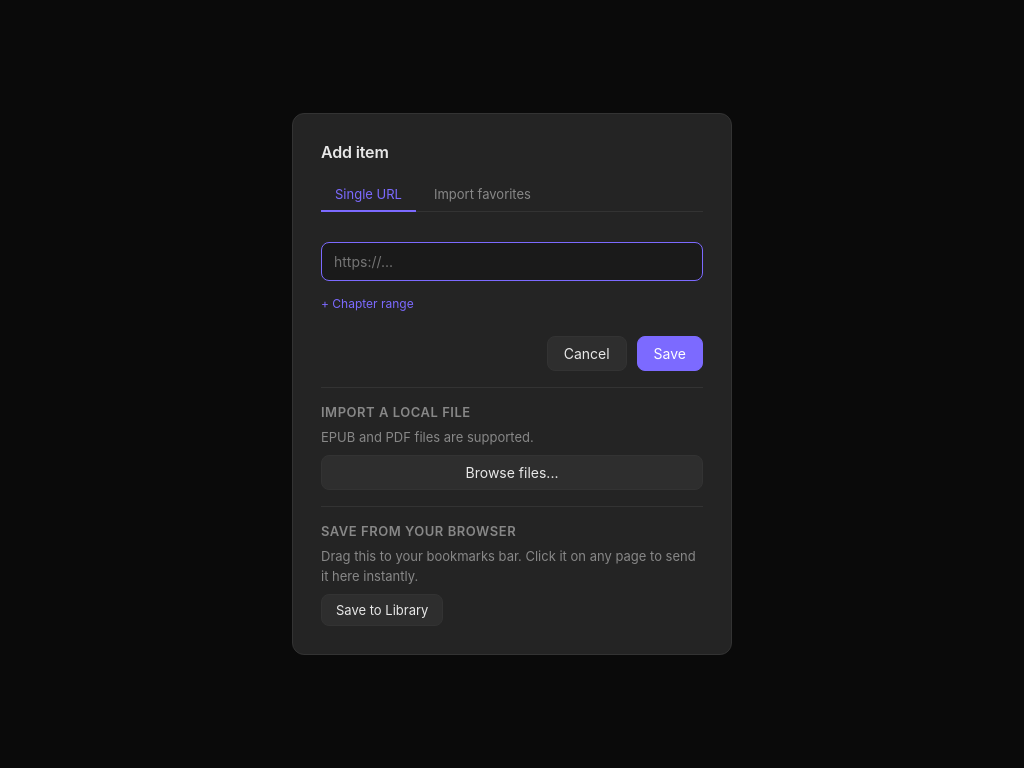
Test: AddItemModal — URL capture › surfaces a capture error
The image size is (1024, 768).
Type "https://a.com/x" into the field with placeholder "https://..." at x=512, y=261, box x1=321 y1=242 x2=703 y2=281
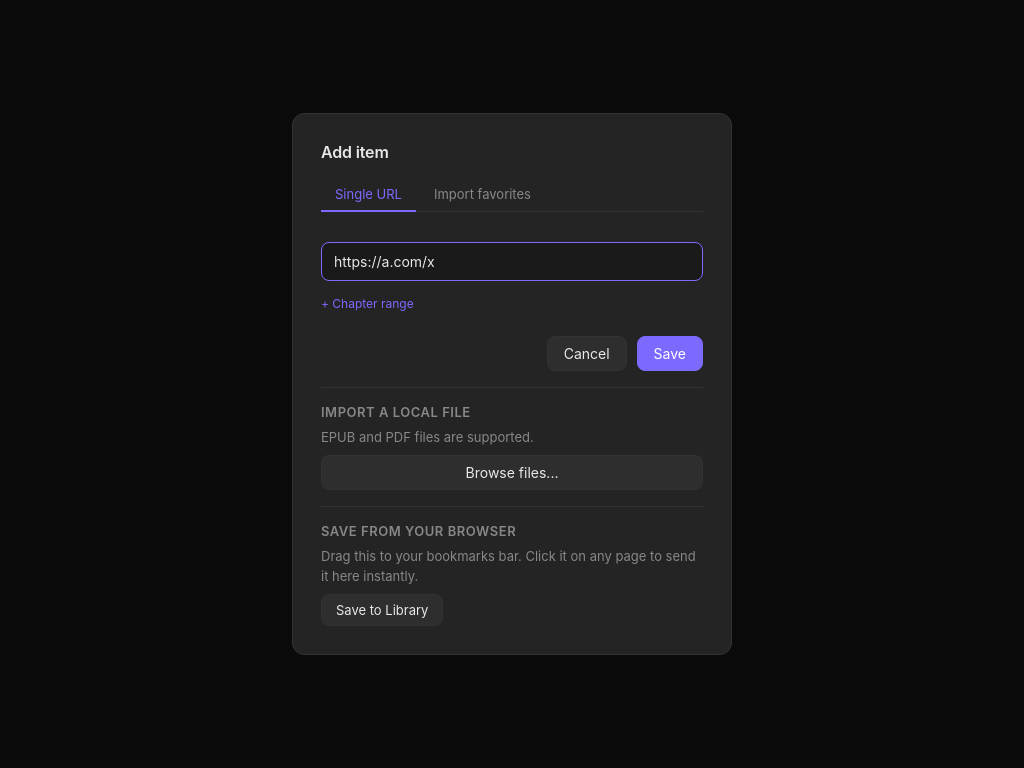
Click the button "Save" at x=670, y=353, box x1=637 y1=336 x2=703 y2=371
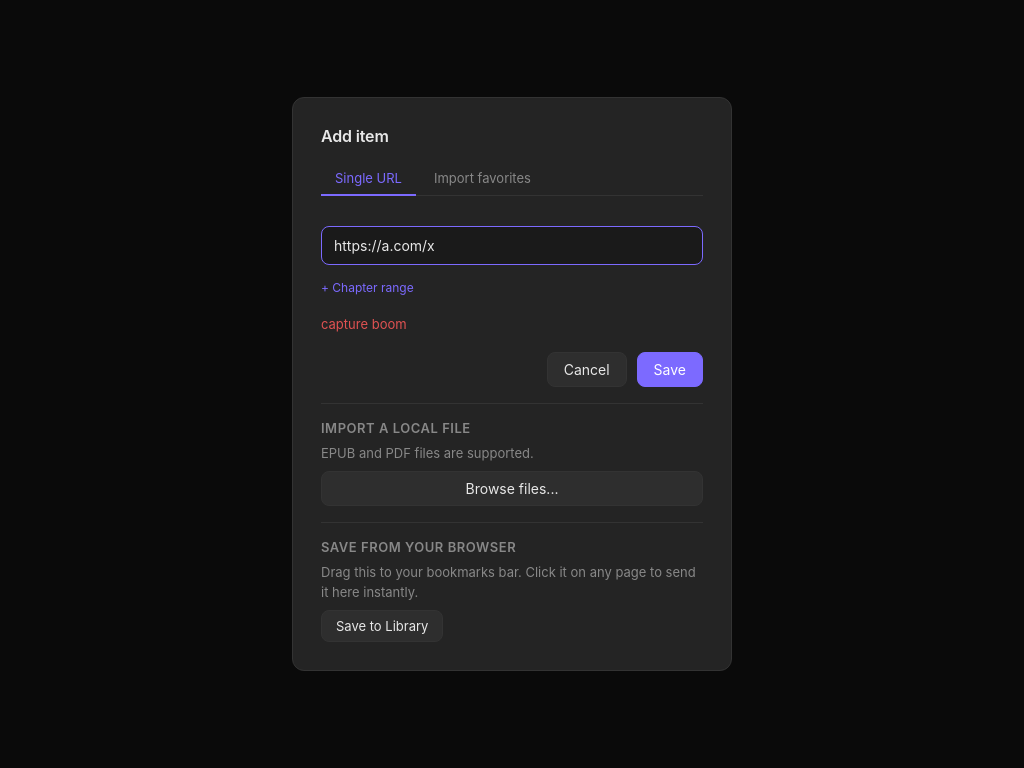
Expected: the text "capture boom" is shown, x1=321 y1=316 x2=407 y2=332
